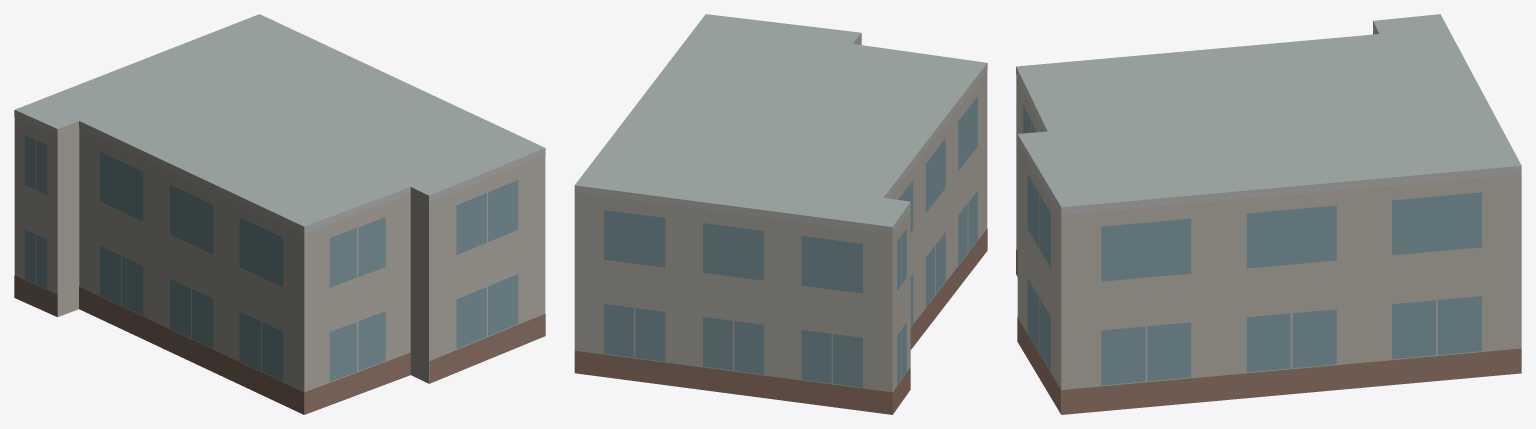
The model's file is survey-upis-32538177.glb.
The picture shows the model from 3 angles, left to right: view 1: azimuth 30°, elevation 25°; view 2: azimuth 150°, elevation 25°; view 3: azimuth 270°, elevation 25°; orthographic projection. The views are drawn at different scales.
Visible parts, largest first — view 1: survey-upis-32538177.tmp; view 2: survey-upis-32538177.tmp; view 3: survey-upis-32538177.tmp.
Boxes of the visible parts, bbox=[...] form: survey-upis-32538177.tmp: bbox=[14, 14, 545, 414]; survey-upis-32538177.tmp: bbox=[574, 14, 987, 414]; survey-upis-32538177.tmp: bbox=[1016, 14, 1521, 414].
Size of the model in its own units: 12.79 by 6.4 by 14.14.
